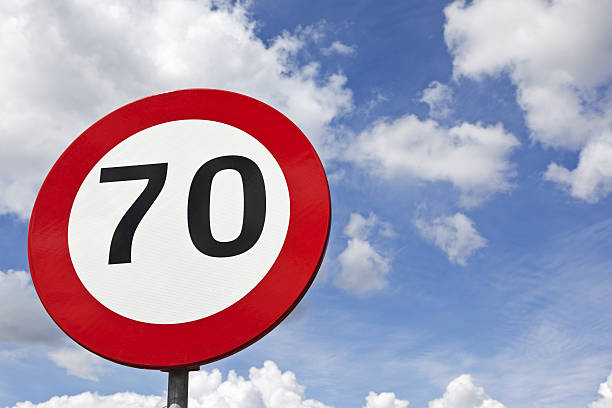Speed_limit_70km: (27, 88, 334, 370)
